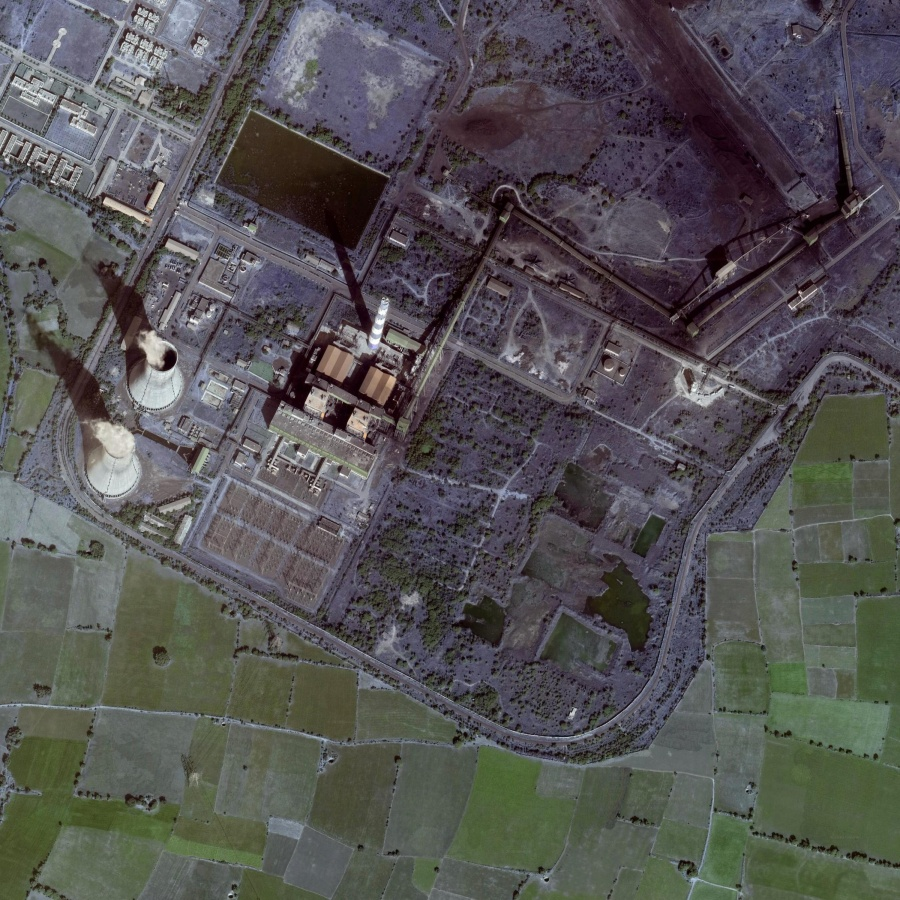PowerPlant: (52, 94, 489, 552)
